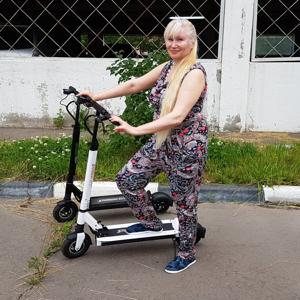human on a scooter: (61, 18, 210, 275)
